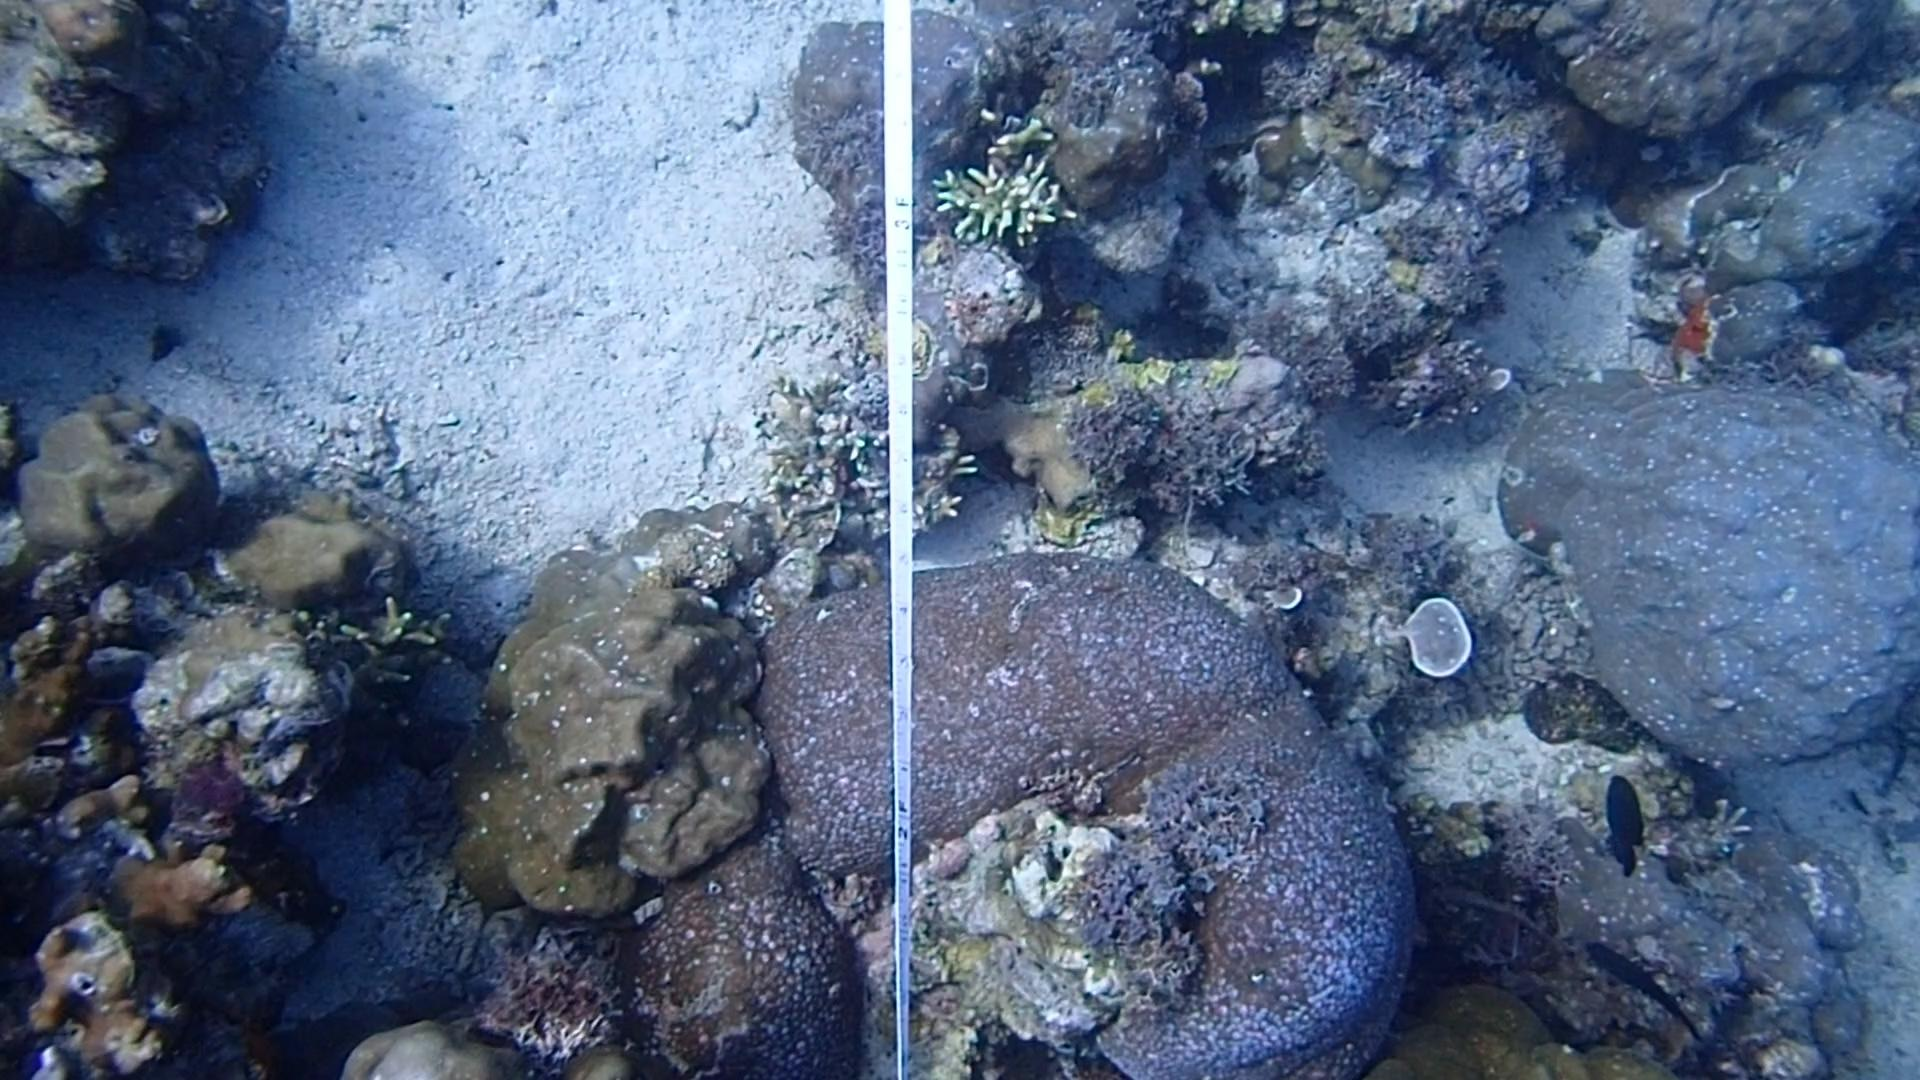Dark Fish: (1593, 766, 1654, 881)
